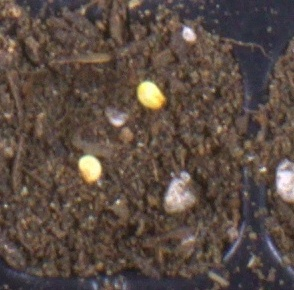chilli seed: (135, 80, 166, 110), (77, 154, 103, 184)
